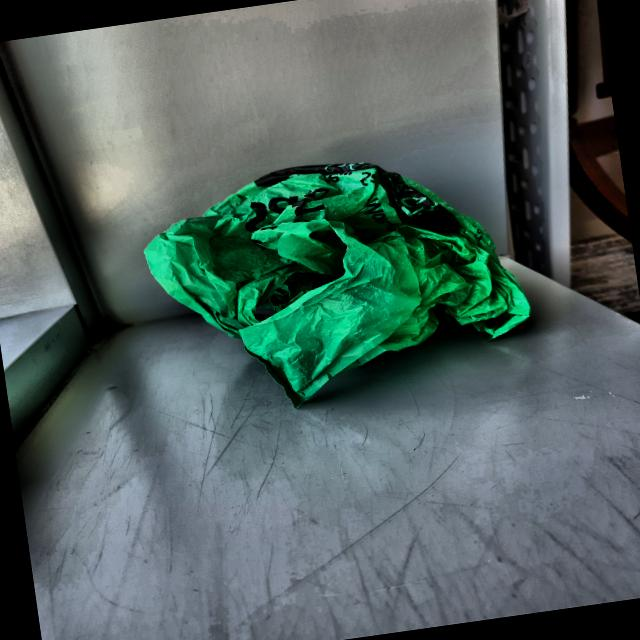plastic bag: (118, 128, 563, 437)
